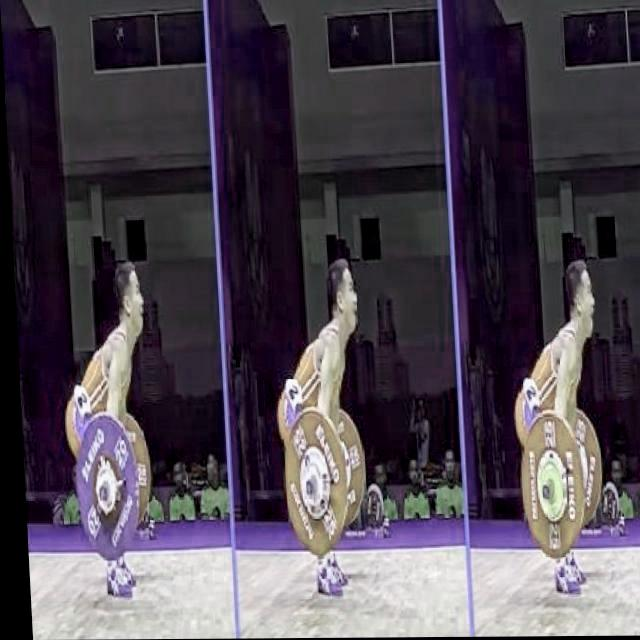barbell: (507, 410, 587, 565), (64, 409, 143, 565), (272, 407, 350, 560)
